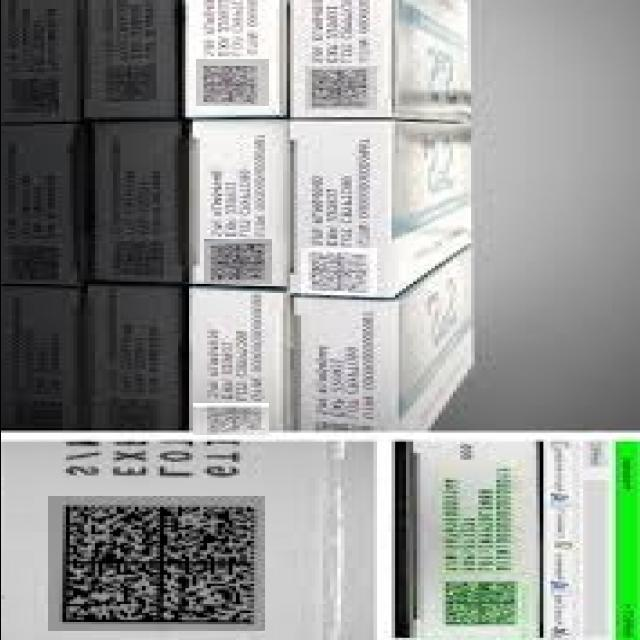Data-Matrix: (47, 496, 264, 631), (434, 577, 524, 629), (300, 248, 376, 297), (195, 59, 268, 106), (304, 66, 376, 110), (203, 239, 271, 284), (192, 403, 268, 435)
